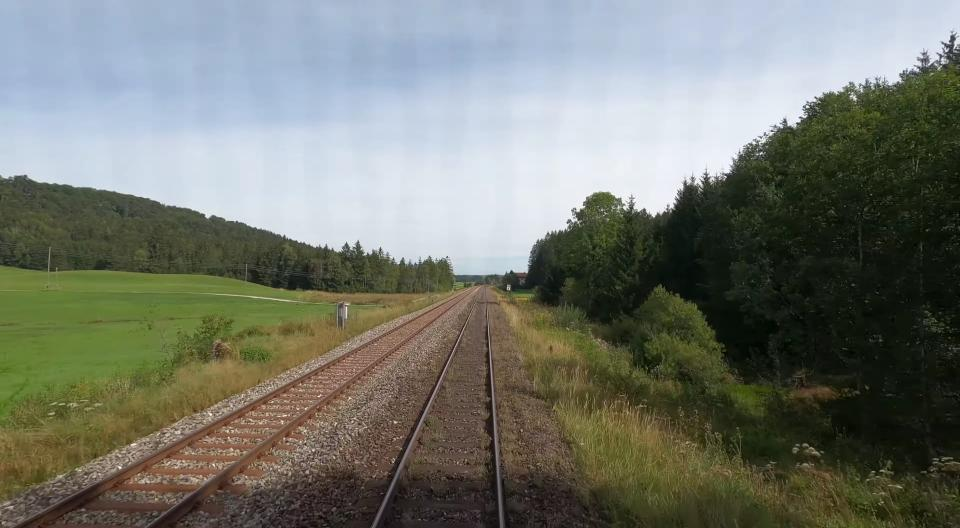Plant: (488, 302, 620, 528), (473, 420, 495, 489), (402, 450, 424, 488), (436, 381, 455, 404), (419, 429, 448, 444), (446, 356, 462, 380), (476, 363, 489, 382), (423, 415, 437, 427), (479, 408, 490, 421), (480, 392, 491, 402)
